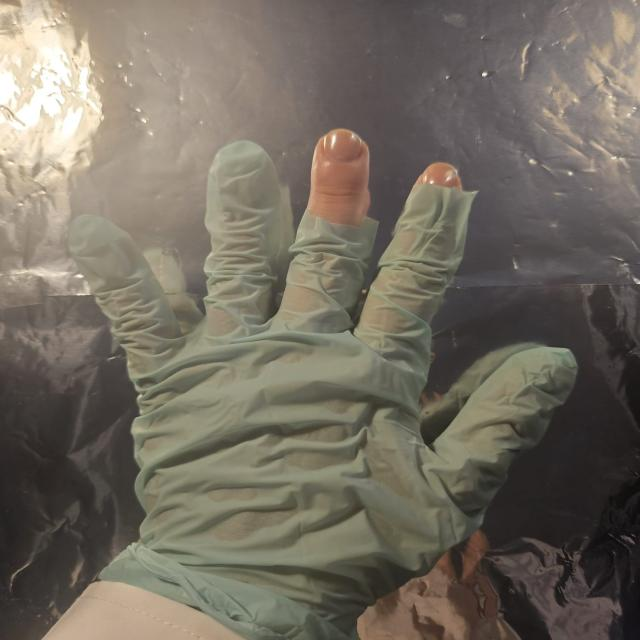gloves_damaged: (62, 128, 583, 640)
